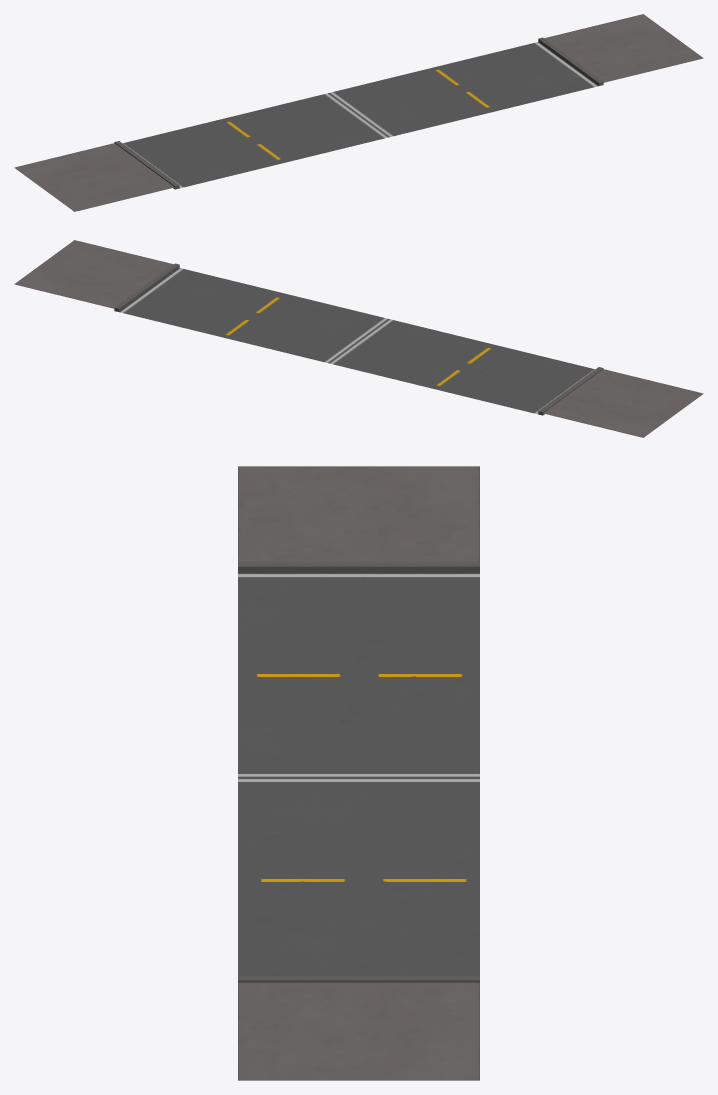
File: SM_Floor_Road_14_S.fbx
3 views of the same model, one above another, from view 1: azimuth 30°, elevation 25°; view 2: azimuth 150°, elevation 25°; view 3: azimuth 270°, elevation 25° (orthographic). The views are drawn at different scales.
Visible parts, largest first — view 1: SM_Floor_Road_14_S; view 2: SM_Floor_Road_14_S; view 3: SM_Floor_Road_14_S.
Boxes of the visible parts, bbox=[...] form: SM_Floor_Road_14_S: bbox=[14, 14, 703, 211]; SM_Floor_Road_14_S: bbox=[14, 240, 703, 437]; SM_Floor_Road_14_S: bbox=[238, 466, 479, 1080].
Bounding box in the file's own units: 15 × 0.075 × 2.5.
